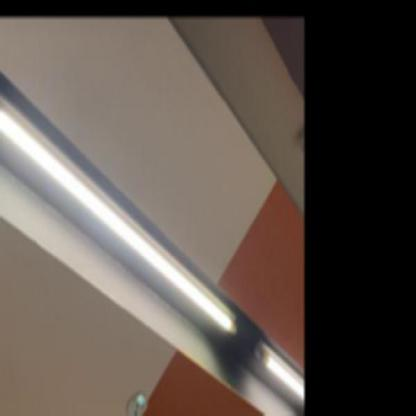light_on: (0, 80, 244, 352), (254, 335, 304, 412)
